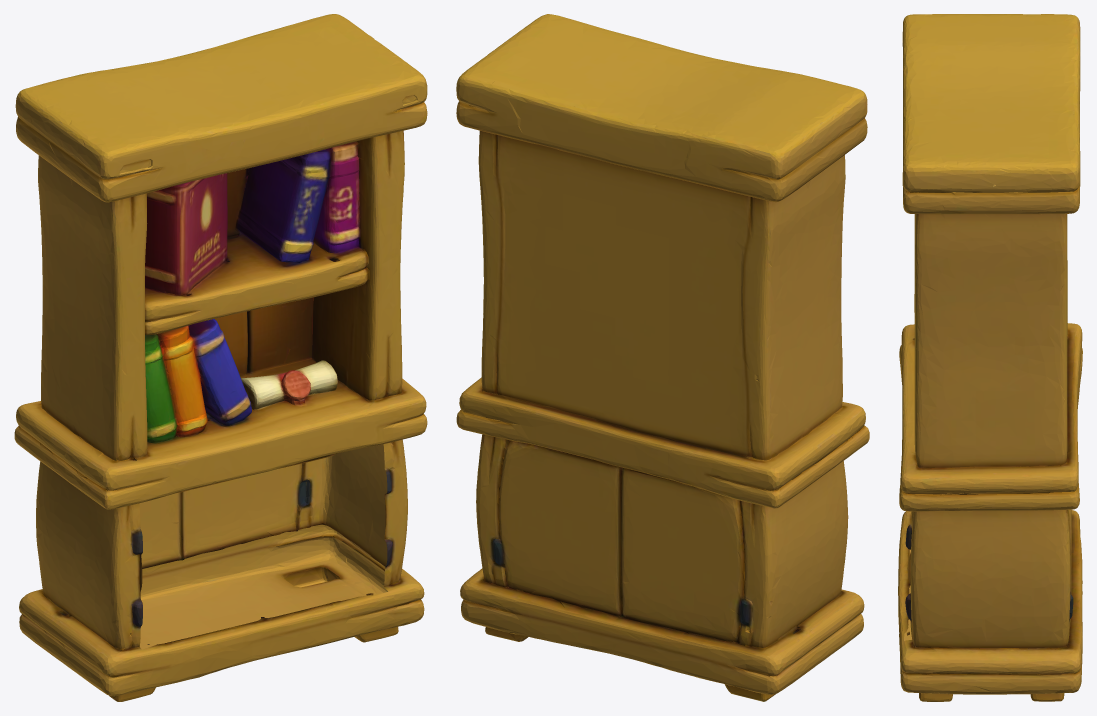
File: body.glb
3 renders of one model, left to right at view 1: azimuth 30°, elevation 25°; view 2: azimuth 150°, elevation 25°; view 3: azimuth 270°, elevation 25°, orthographic. The views are drawn at different scales.
Parts seen in each view (by area): view 1: source_surface_0; view 2: source_surface_0; view 3: source_surface_0.
Boxes of the visible parts, <box> form: source_surface_0: <box>14,14,427,701</box>; source_surface_0: <box>456,14,869,701</box>; source_surface_0: <box>898,14,1082,701</box>.
Size of the model in its own units: 0.233 by 0.38 by 0.1162.
1 material, 1 textured.
